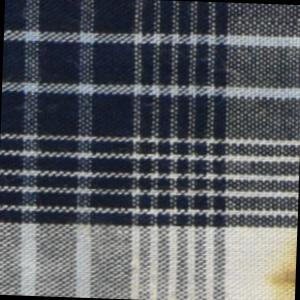Oil Stain: (262, 229, 298, 300)
